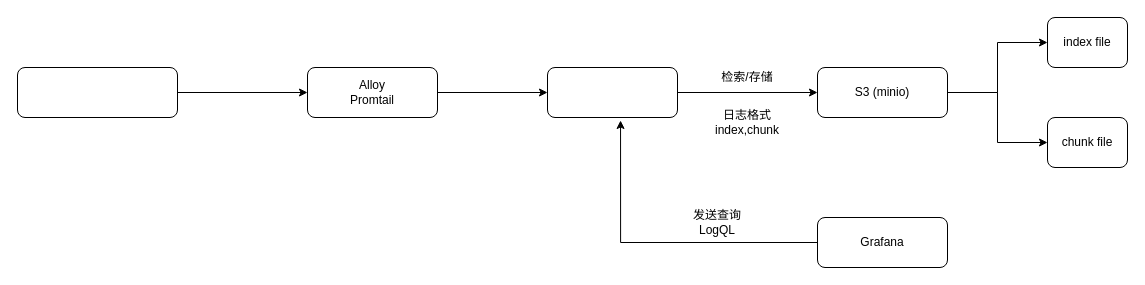
The diagram is 1145 pixels wide and 285 high, and some of its shapes have lost their labels. The shapes that lost their labels are listed below. From the top down, each one's box as (x1, y1, x2, y2) in pixels, then its label:
(16, 66, 178, 118): Pod 服务的 log 标注输出（Stdout）
(546, 66, 678, 118): 日志聚合系统 Loki
